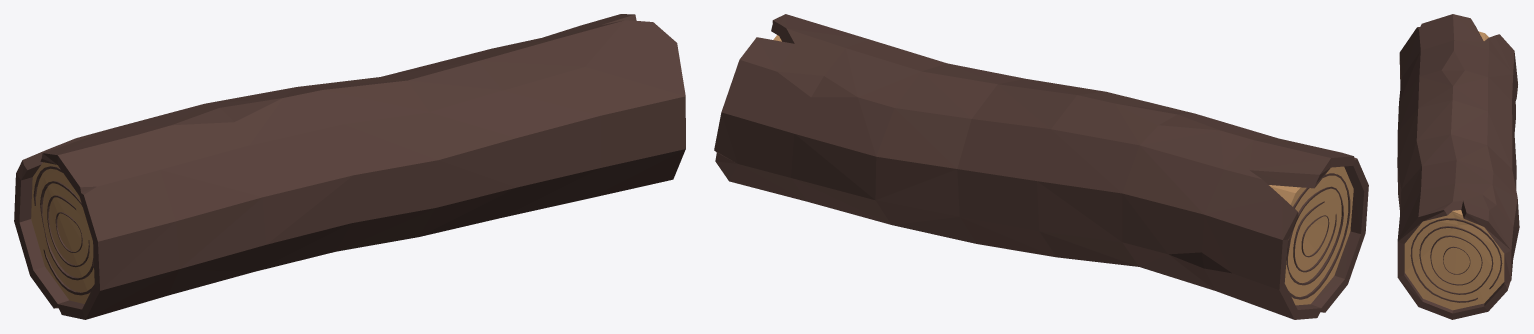
Rendered from Log 2.fbx.
3 renders of one model, left to right at view 1: azimuth 30°, elevation 25°; view 2: azimuth 150°, elevation 25°; view 3: azimuth 270°, elevation 25°, orthographic. The views are drawn at different scales.
Visible parts, largest first — view 1: Log 2; view 2: Log 2; view 3: Log 2.
Boxes of the visible parts, bbox=[...] form: Log 2: bbox=[14, 14, 685, 319]; Log 2: bbox=[714, 14, 1368, 319]; Log 2: bbox=[1397, 14, 1519, 319].
Size of the model in its own units: 4.58 by 1.22 by 1.2.
